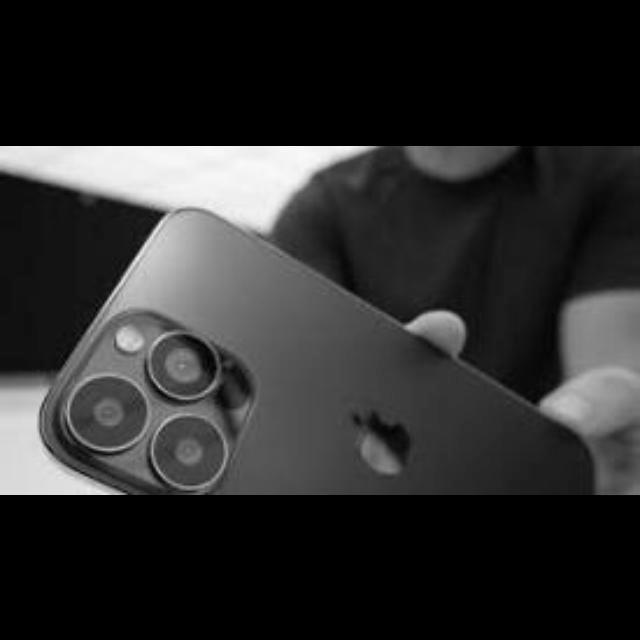fake: (4, 166, 624, 493)
